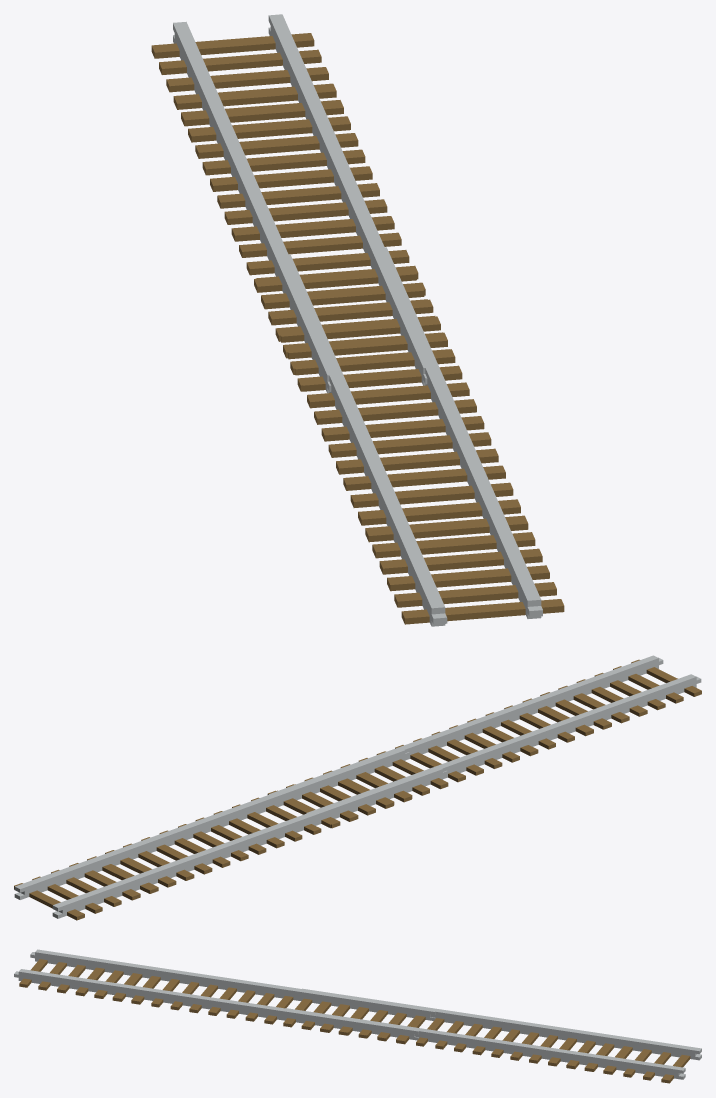
Rendered from track_bent_r.glb.
3 views of the same model, one above another, from view 1: azimuth 30°, elevation 25°; view 2: azimuth 150°, elevation 25°; view 3: azimuth 270°, elevation 25° (orthographic). The views are drawn at different scales.
Parts seen in each view (by area): view 1: Mesh_Mesh_head_geo.001_lambert2SG.001; view 2: Mesh_Mesh_head_geo.001_lambert2SG.001; view 3: Mesh_Mesh_head_geo.001_lambert2SG.001.
Part boxes in pixels (x1,y1,x2,y2): Mesh_Mesh_head_geo.001_lambert2SG.001: (151, 14, 564, 626); Mesh_Mesh_head_geo.001_lambert2SG.001: (14, 655, 701, 920); Mesh_Mesh_head_geo.001_lambert2SG.001: (14, 949, 701, 1083).
Bounding box in the file's own units: 90.44 × 3 × 203.
